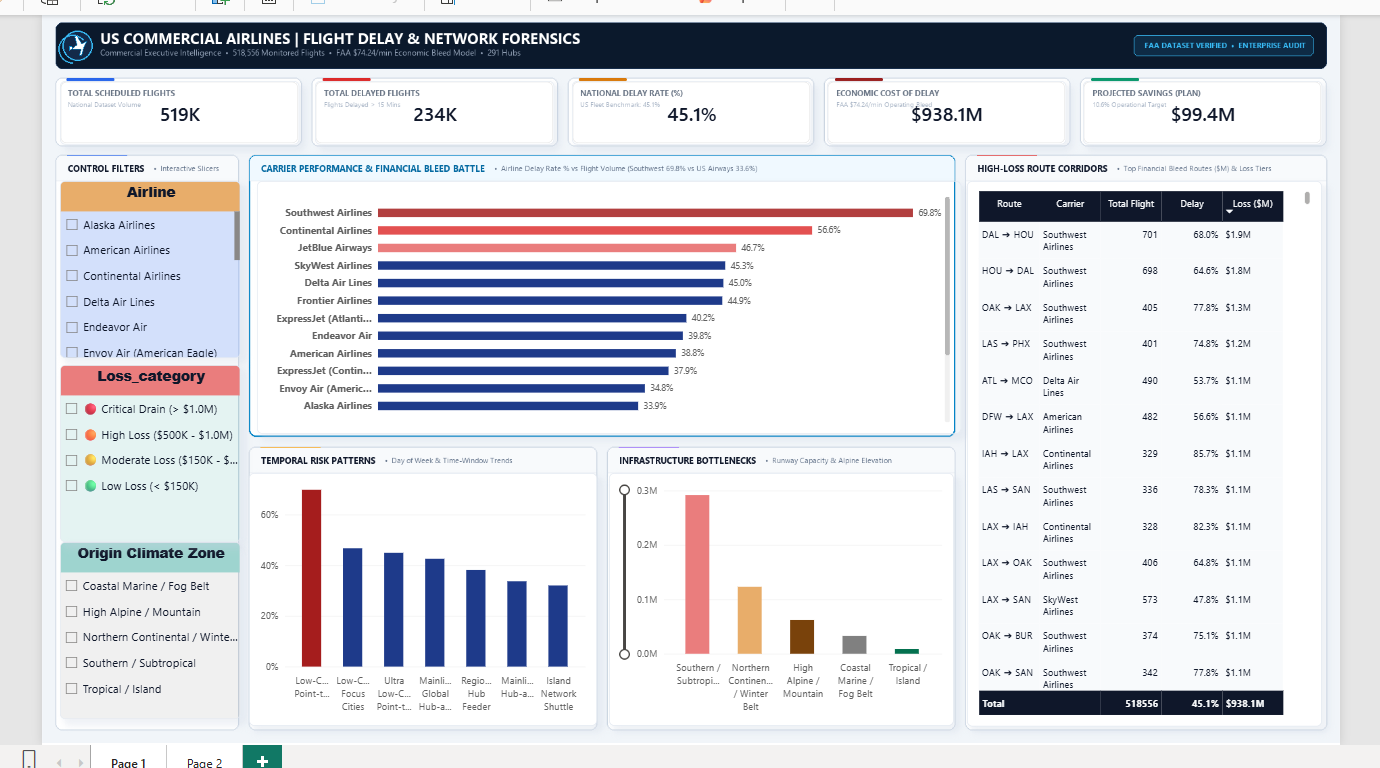

The dashboard page shown, as its layout file describes it:
{"tool":"powerbi","page":{"name":"Page 1","canvas":[1920,1080],"ordinal":0},"visuals":[{"type":"cardVisual","fields":{"Data":["powerbi_route_carrier_matrix.Total Flights"]},"box":[26.4,97.3,353.7,93.5],"z":0},{"type":"cardVisual","fields":{"Data":["powerbi_route_carrier_matrix.Delayed Flights"]},"box":[404,97,353.7,93.5],"z":1000},{"type":"cardVisual","fields":{"Data":["powerbi_route_carrier_matrix.Delay Rate %"]},"box":[784,96.9,353.7,93.5],"z":2000},{"type":"cardVisual","fields":{"Data":["powerbi_route_carrier_matrix.Total Delay Cost ($M)"]},"box":[1161,97,353.7,93.5],"z":3000},{"type":"cardVisual","fields":{"Data":["powerbi_route_carrier_matrix.Projected Savings ($M)"]},"box":[1540,97,353.7,93.5],"z":4000},{"type":"clusteredBarChart","fields":{"Category":["powerbi_route_carrier_matrix.carrier_name"],"Y":["powerbi_route_carrier_matrix.Delay Rate %"]},"box":[318.4,245.8,1042.5,374.4],"z":5000},{"type":"tableEx","fields":{"Values":["powerbi_route_carrier_matrix.Route","powerbi_route_carrier_matrix.carrier_name","Sum(powerbi_route_carrier_matrix.flight_volume)","powerbi_route_carrier_matrix.Delay Rate %","powerbi_route_carrier_matrix.Loss ($M)"]},"box":[1369.1,245.8,524.5,806.6],"z":6000},{"type":"slicer","title":"Airline ","fields":{"Values":["powerbi_route_carrier_matrix.carrier_name"]},"box":[26.4,245.8,267.2,262.3],"z":7000},{"type":"slicer","title":"Origin Climate Zone","fields":{"Values":["powerbi_route_carrier_matrix.from_climate_tier"]},"box":[26.4,780.2,267.2,262.3],"z":8000},{"type":"slicer","title":"Loss_category","fields":{"Values":["powerbi_route_carrier_matrix.Financial Loss Tier"]},"box":[26.4,517.9,267.2,262.3],"z":9000},{"type":"clusteredColumnChart","fields":{"Category":["powerbi_route_carrier_matrix.from_climate_tier"],"Y":["powerbi_route_carrier_matrix.Total Scheduled Flights"]},"box":[839.6,677.9,509.7,374.4],"z":10000},{"type":"clusteredColumnChart","fields":{"Category":["powerbi_route_carrier_matrix.operating_model"],"Y":["powerbi_route_carrier_matrix.Delay Rate %"]},"box":[306.8,677.9,514.6,374.4],"z":11000}]}

Visuals, with their boxes on the page's 1920x1080 design canvas (x1, y1, x2, y2). These are canvas units, not pixel positions in the 1380x768 screenshot, which may show the page scaled, cropped or inside an application window:
cardVisual - powerbi_route_carrier_matrix.Total Flights: [26, 97, 380, 191]
cardVisual - powerbi_route_carrier_matrix.Delayed Flights: [404, 97, 758, 190]
cardVisual - powerbi_route_carrier_matrix.Delay Rate %: [784, 97, 1138, 190]
cardVisual - powerbi_route_carrier_matrix.Total Delay Cost ($M): [1161, 97, 1515, 190]
cardVisual - powerbi_route_carrier_matrix.Projected Savings ($M): [1540, 97, 1894, 190]
clusteredBarChart - powerbi_route_carrier_matrix.carrier_name x powerbi_route_carrier_matrix.Delay Rate %: [318, 246, 1361, 620]
tableEx - powerbi_route_carrier_matrix.Route x powerbi_route_carrier_matrix.carrier_name: [1369, 246, 1894, 1052]
"Airline " slicer: [26, 246, 294, 508]
"Origin Climate Zone" slicer: [26, 780, 294, 1042]
"Loss_category" slicer: [26, 518, 294, 780]
clusteredColumnChart - powerbi_route_carrier_matrix.from_climate_tier x powerbi_route_carrier_matrix.Total Scheduled Flights: [840, 678, 1349, 1052]
clusteredColumnChart - powerbi_route_carrier_matrix.operating_model x powerbi_route_carrier_matrix.Delay Rate %: [307, 678, 821, 1052]
